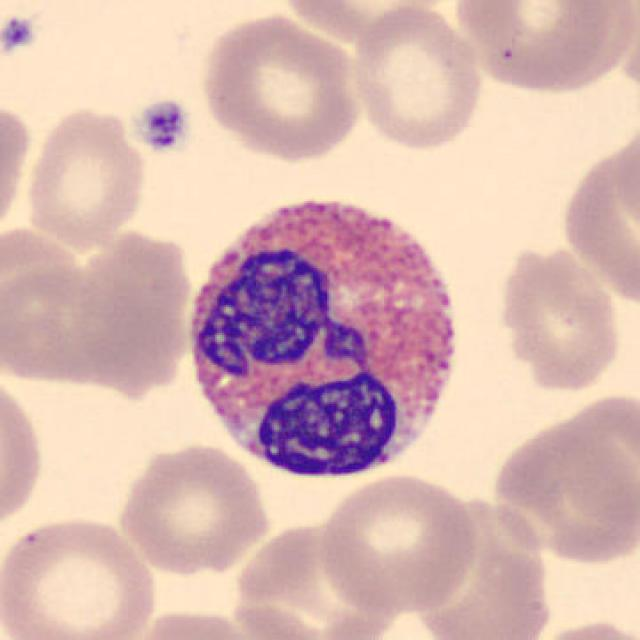Eosinophil: (174, 174, 475, 496)
Platelets: (132, 95, 194, 155), (0, 14, 39, 57)
RBC: (198, 11, 364, 164), (314, 469, 482, 614), (66, 234, 196, 406), (114, 439, 272, 577), (347, 2, 487, 153), (490, 242, 626, 396), (0, 511, 162, 640), (493, 424, 640, 566), (235, 520, 407, 640), (21, 102, 151, 250), (414, 498, 544, 640), (450, 0, 633, 97), (2, 256, 112, 388), (557, 137, 640, 306), (553, 394, 640, 540), (0, 365, 46, 543), (274, 0, 457, 44), (122, 604, 270, 640), (0, 97, 34, 242), (526, 615, 640, 640)
